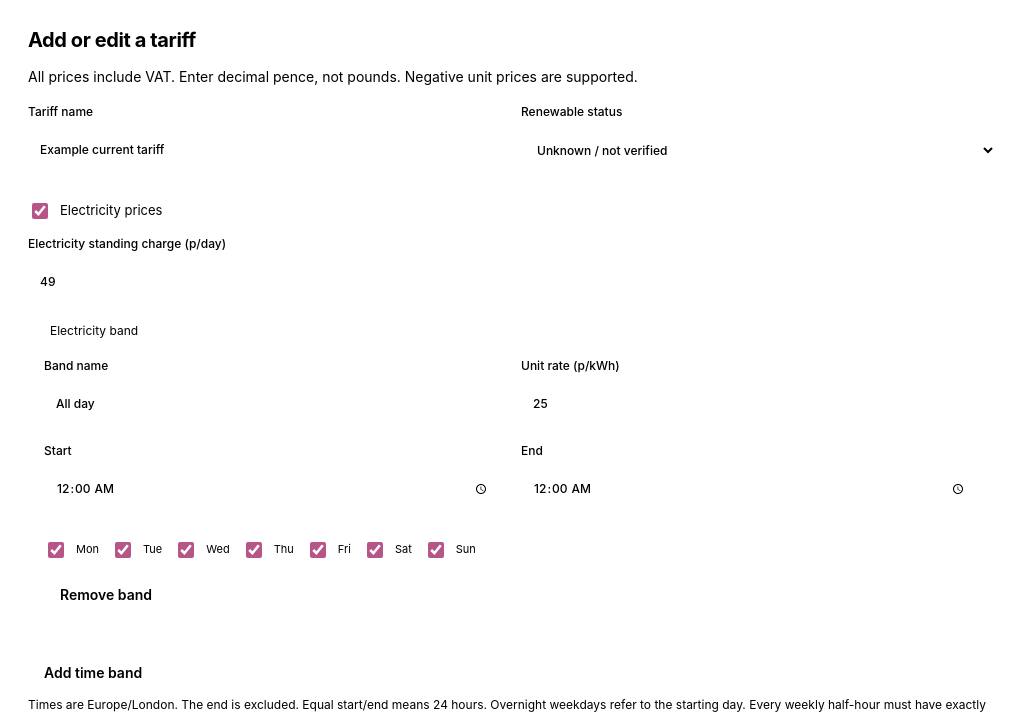
tariff and results UI › rejects an invalid tariff submission
Click the button "Add time band" at (93,673), box [28,651,158,695]
(page scrolled)
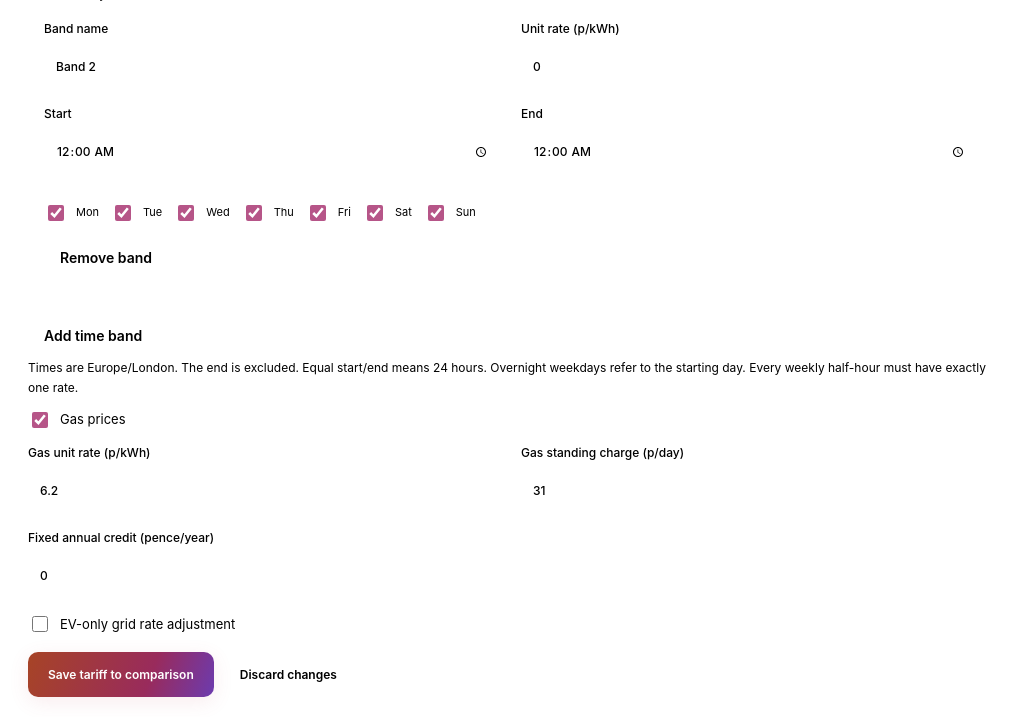
Click the button "Save tariff to comparison" at (121,675), box [28,652,214,697]
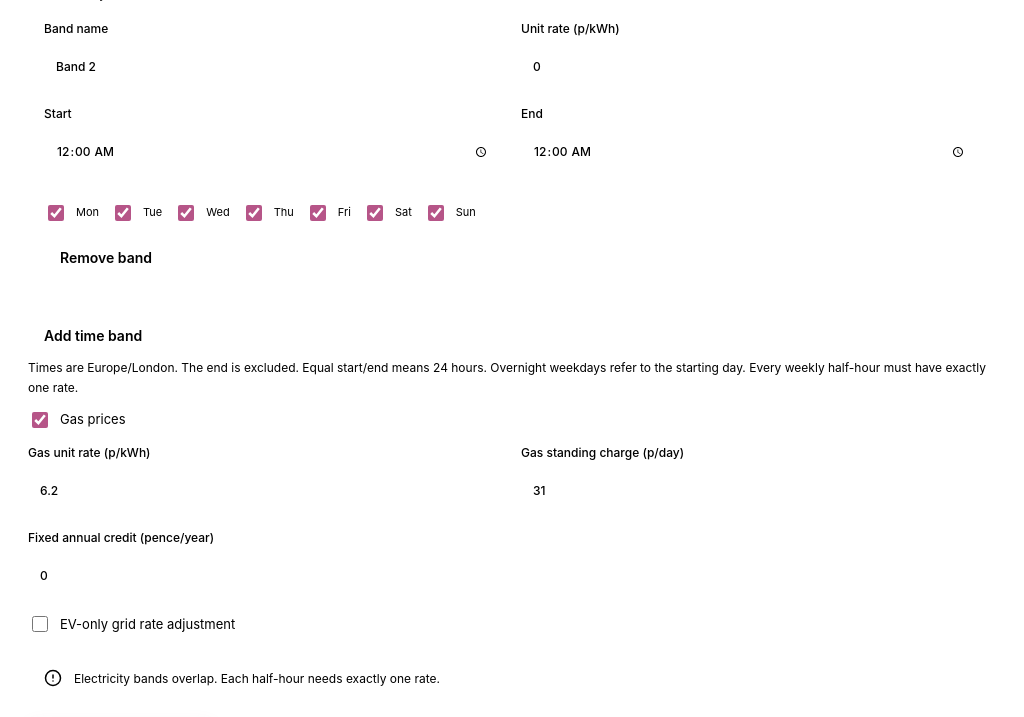
Expected: the message shows "Electricity bands overlap", [74,671,440,686]
